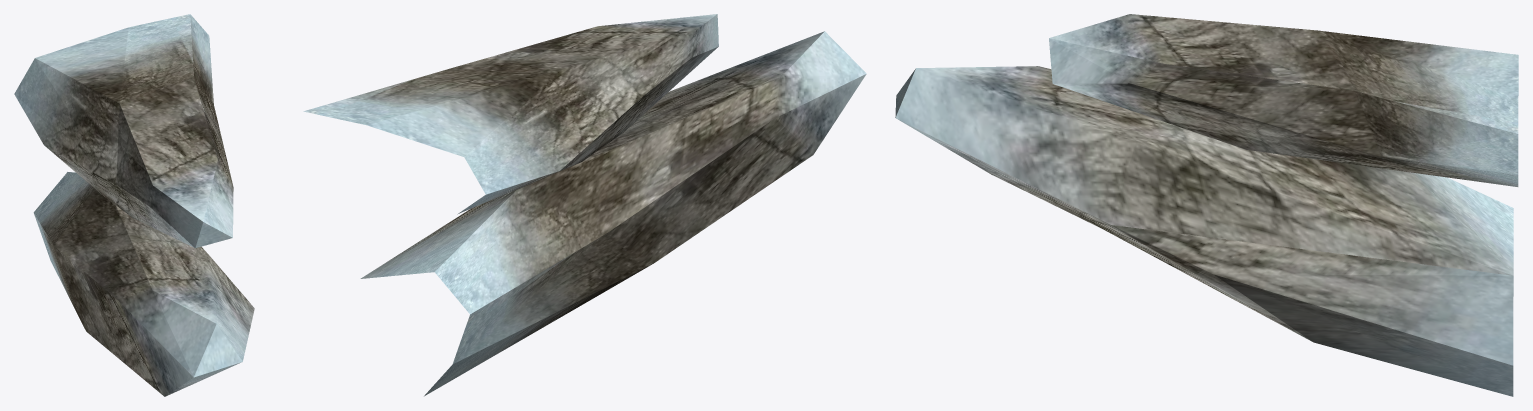
The picture shows the model from 3 angles, left to right: view 1: azimuth 30°, elevation 25°; view 2: azimuth 150°, elevation 25°; view 3: azimuth 270°, elevation 25°; orthographic projection. The views are drawn at different scales.
Visible parts, largest first — view 1: model_Object83; view 2: model_Object83; view 3: model_Object83.
Boxes of the visible parts, x1,y1,x2,y2 form: model_Object83: (14,14,254,396); model_Object83: (303,14,866,396); model_Object83: (895,14,1518,396).
Bounding box in the file's own units: 3.04 × 2.73 × 4.99.
Materials: 1 (1 with a texture image).
